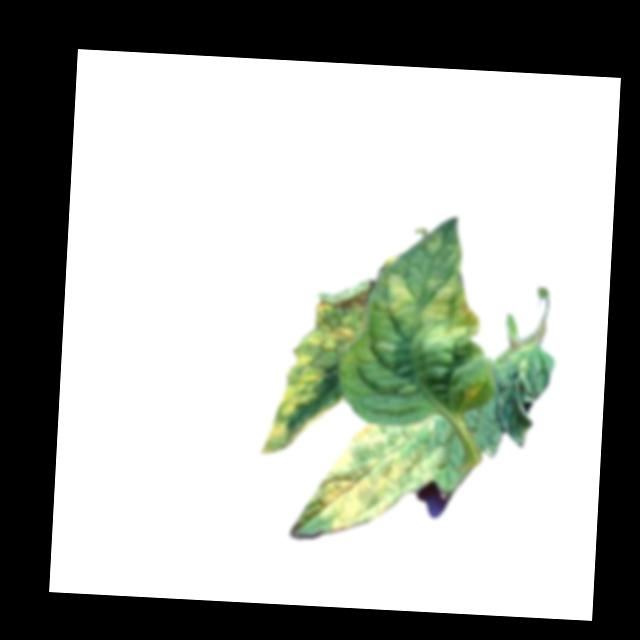Leaf_Mold: (259, 277, 369, 460), (296, 406, 439, 540), (417, 271, 483, 352), (373, 270, 418, 328)
